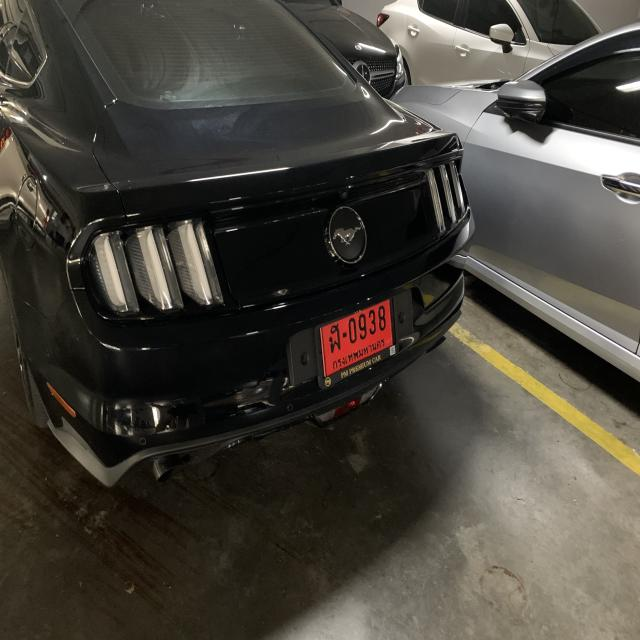license_plate: (311, 292, 399, 391)
